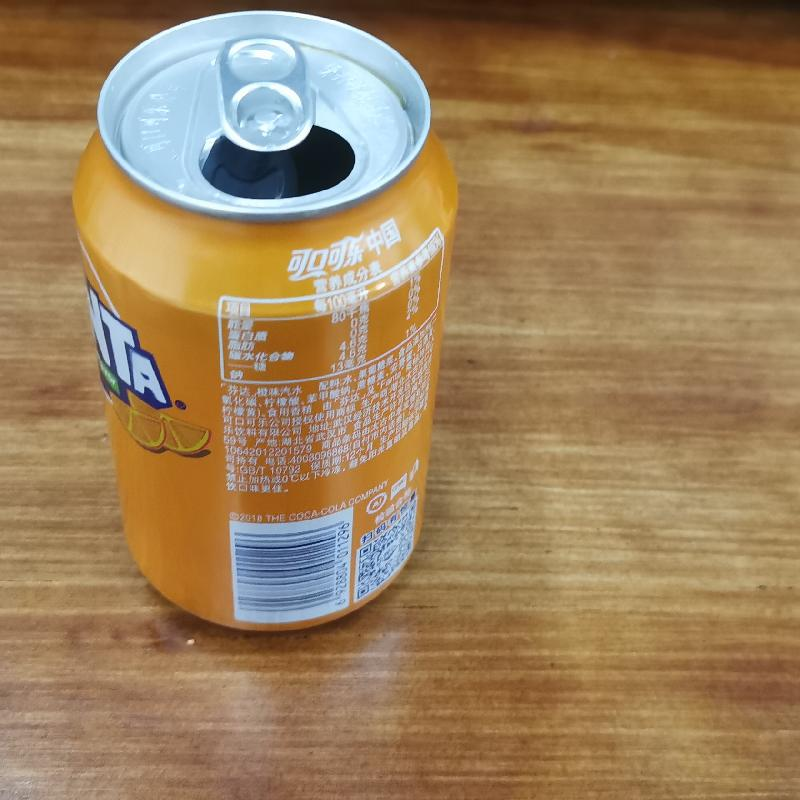cans: (61, 4, 466, 634)
